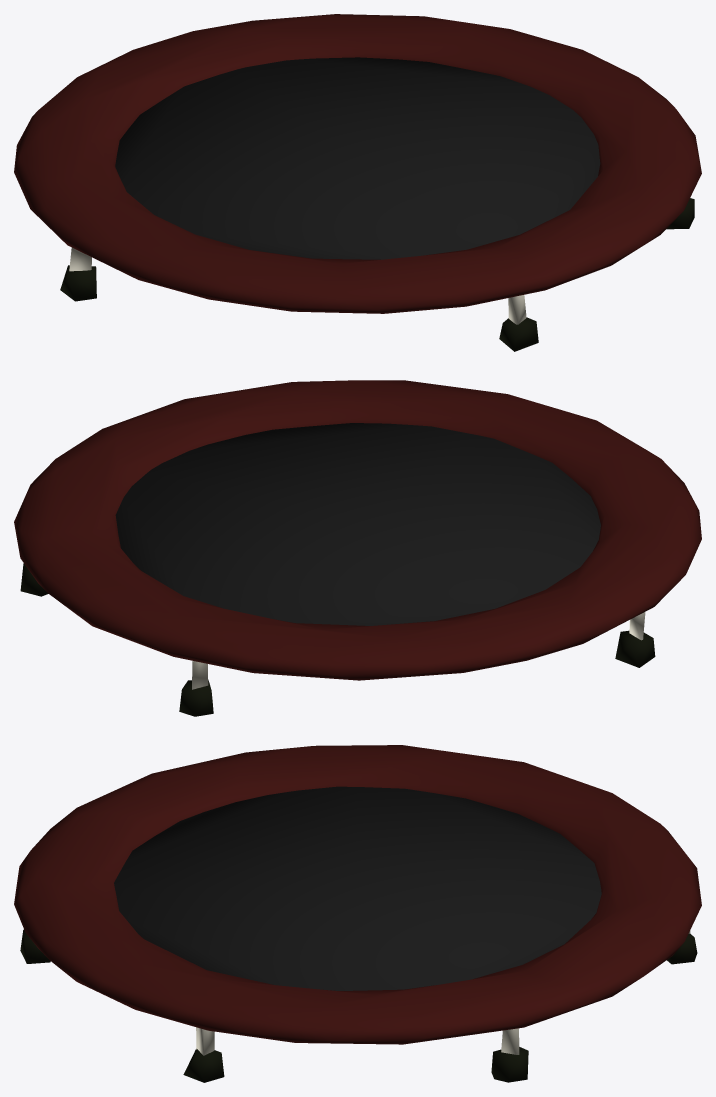
File: Trampoline.fbx
The picture shows the model from 3 angles, top to bottom: view 1: azimuth 30°, elevation 25°; view 2: azimuth 150°, elevation 25°; view 3: azimuth 270°, elevation 25°; orthographic projection.
Visible parts, largest first — view 1: Circle; view 2: Circle; view 3: Circle.
Boxes of the visible parts, x1,y1,x2,y2 form: Circle: (14,14,701,351); Circle: (14,380,701,716); Circle: (14,745,701,1082).
Bounding box in the file's own units: 357 × 44.04 × 356.
